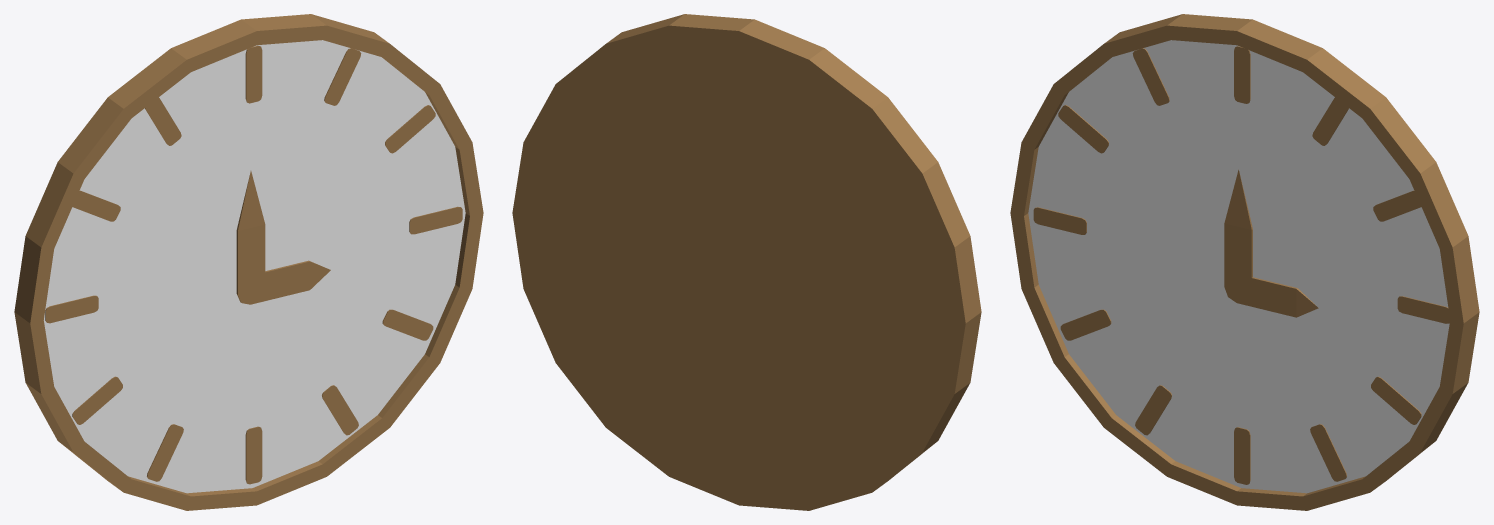
The model's file is Clock_1.fbx.
The picture shows the model from 3 angles, left to right: view 1: azimuth 30°, elevation 25°; view 2: azimuth 150°, elevation 25°; view 3: azimuth 330°, elevation 25°; orthographic projection.
Visible parts, largest first — view 1: Clock_1; view 2: Clock_1; view 3: Clock_1.
Boxes of the visible parts, x1,y1,x2,y2 form: Clock_1: [14, 14, 483, 510]; Clock_1: [512, 14, 981, 510]; Clock_1: [1010, 14, 1479, 510].
Size of the model in its own units: 0.4477 by 0.4477 by 0.0271.
